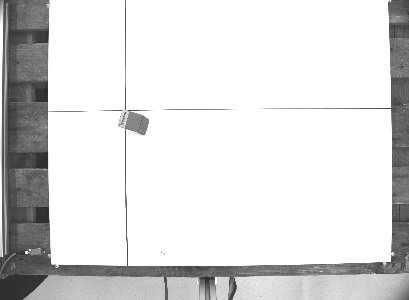b3: (115, 108, 151, 137)
